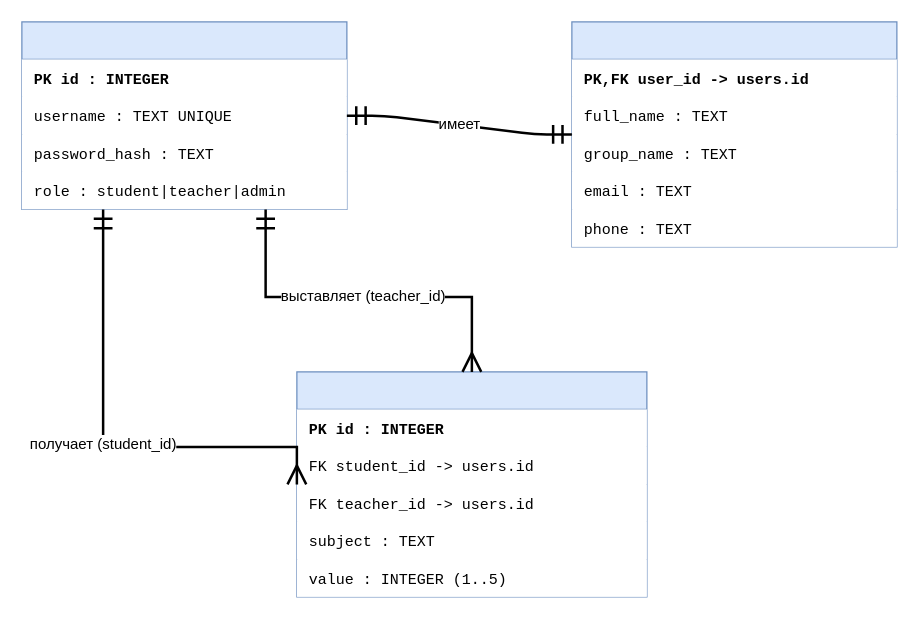
Some shapes in this 919 by 619 pixel diagram are drawn without their labels. Each missing label, with the box of its shape:
grades: (296, 371, 647, 597)
profiles: (571, 21, 897, 247)
users: (21, 21, 347, 209)
